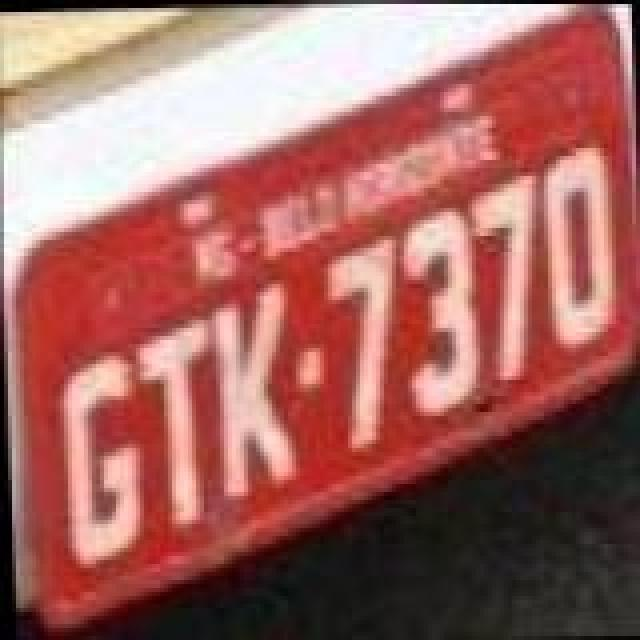3: (398, 202, 486, 418)
7: (318, 234, 406, 454), (462, 168, 546, 384)
G: (58, 344, 146, 568)
K: (208, 276, 296, 500)
O: (538, 134, 622, 350)
T: (130, 312, 218, 528)
